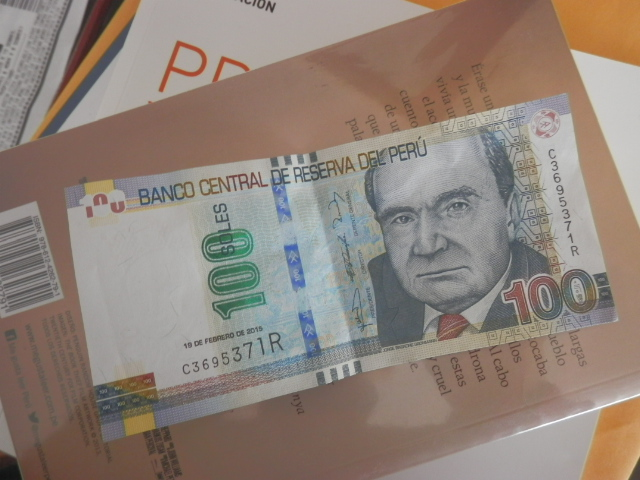B100: (63, 140, 627, 371)
